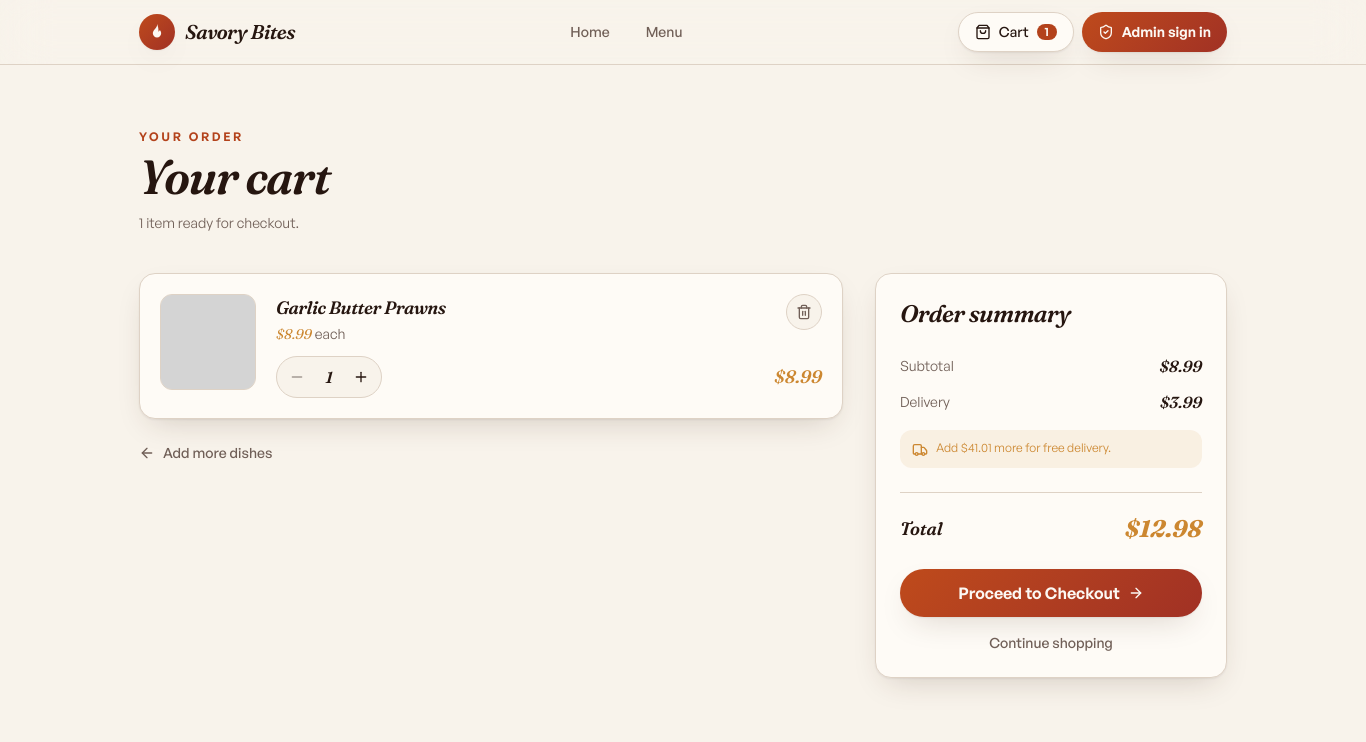
Test: cart › removes a line via its remove button and falls back to the empty state
Click the button with test id "cart.remove_button.1" at x=804, y=312, box [786,294,822,330]
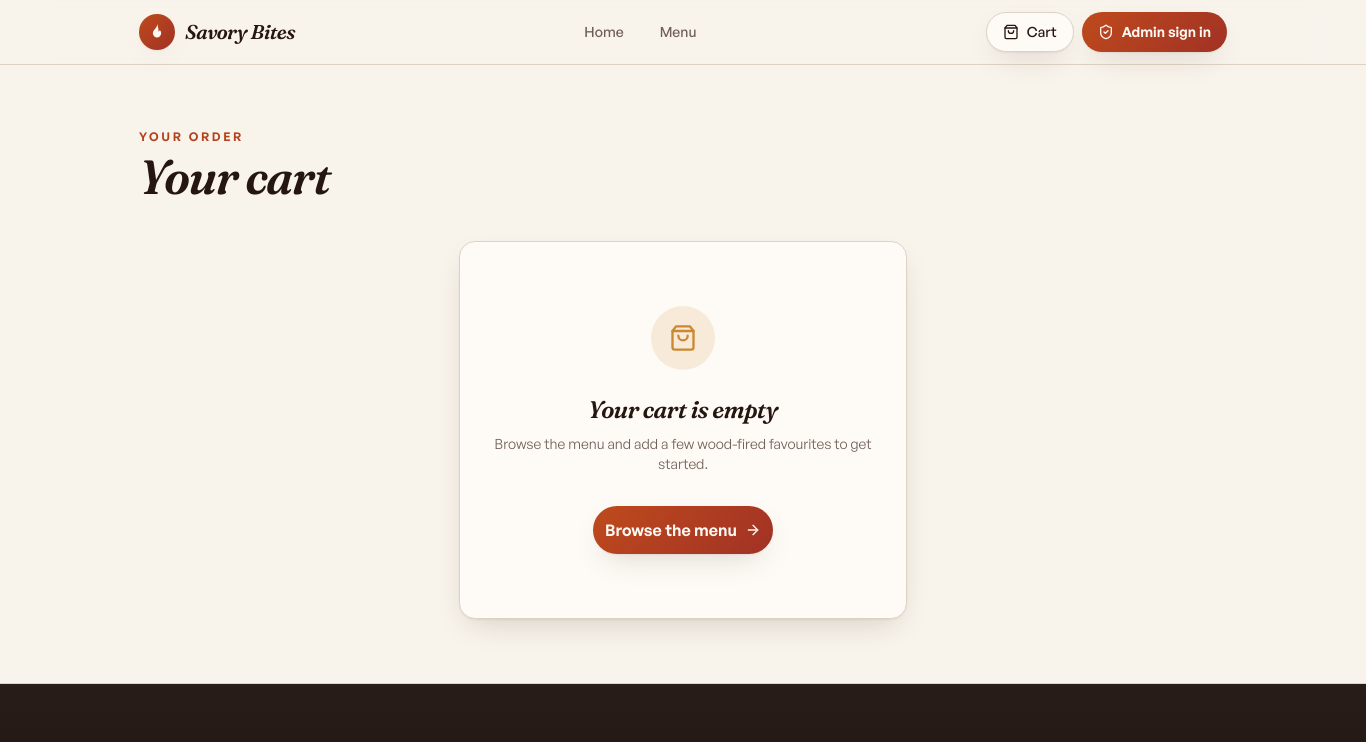
Now the element with test id "cart.empty_state" is shown, box [459,241,907,619]
